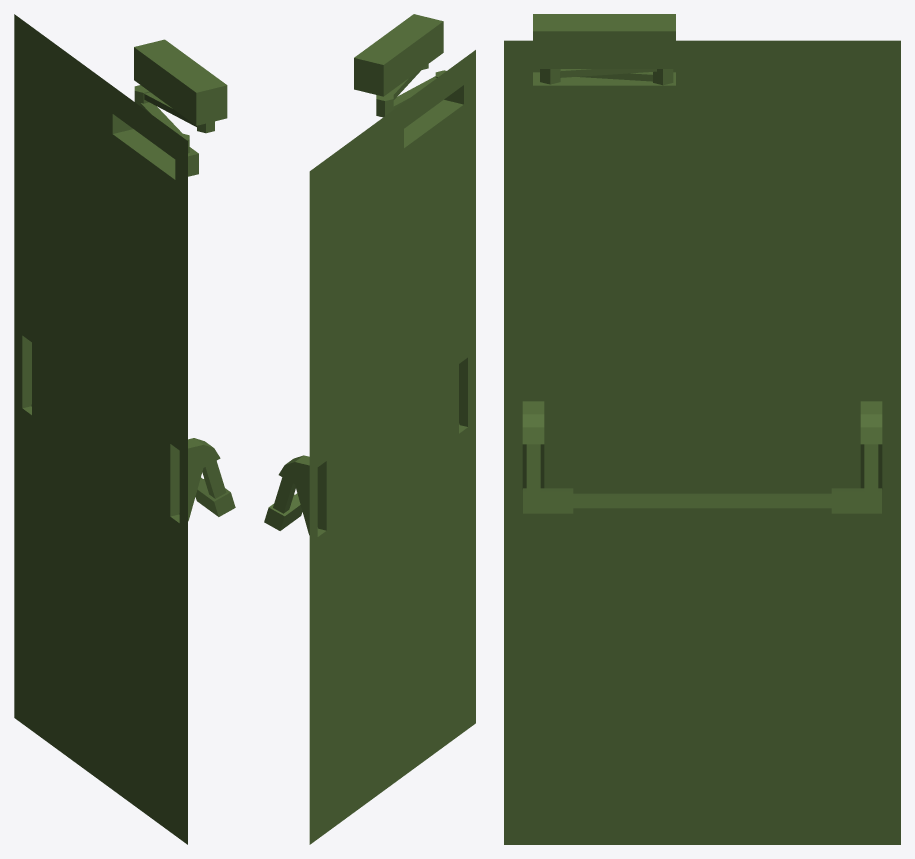
The model's file is Door.fbx.
The picture shows the model from 3 angles, left to right: view 1: azimuth 30°, elevation 25°; view 2: azimuth 150°, elevation 25°; view 3: azimuth 270°, elevation 25°; orthographic projection. The views are drawn at different scales.
Parts seen in each view (by area): view 1: Door, Door.001; view 2: Door, Door.001; view 3: Door, Door.001.
Boxes of the visible parts, <box> form: Door: <box>14,14,187,844</box>; Door.001: <box>22,39,235,522</box>; Door: <box>309,50,475,844</box>; Door.001: <box>264,14,467,536</box>; Door: <box>504,40,900,844</box>; Door.001: <box>522,14,882,513</box>.
Bounding box in the file's own units: 0.1647 × 0.8832 × 2.07.
